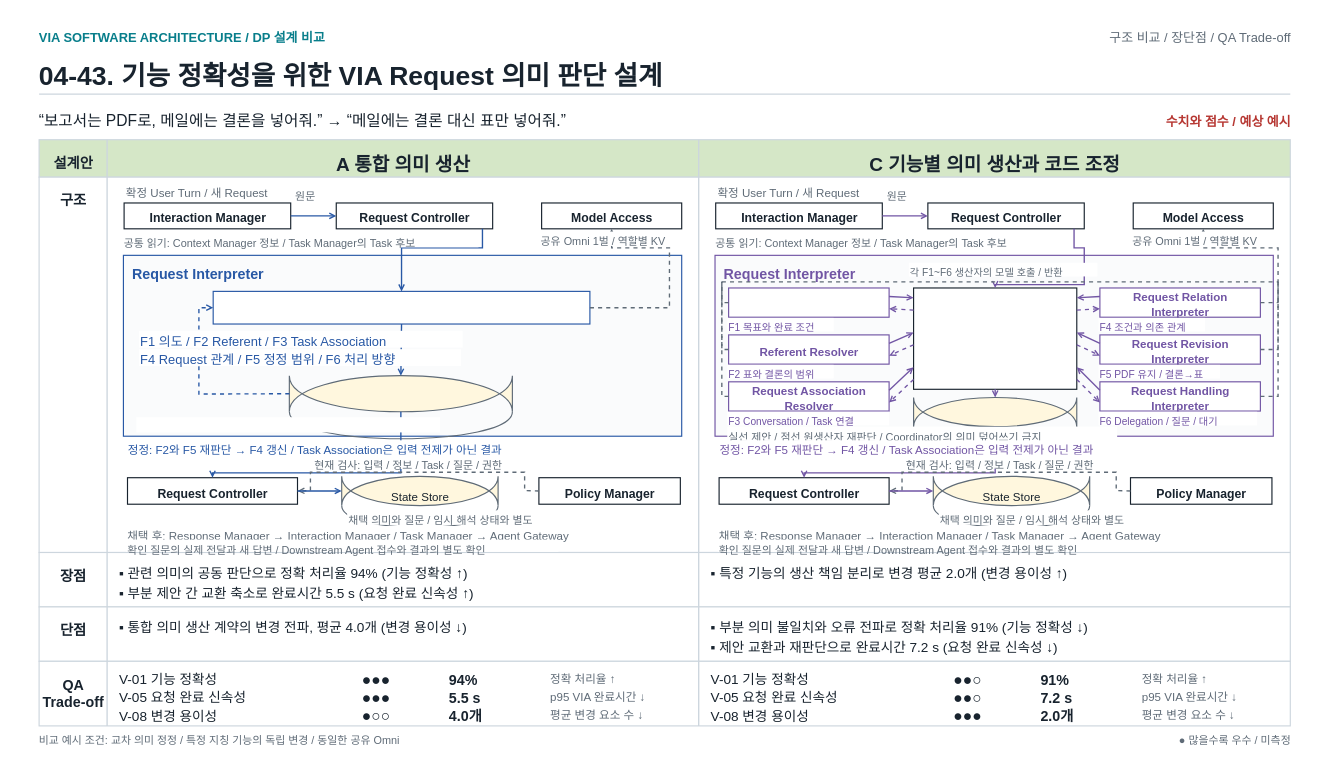
The diagram is 1329 pixels wide and 760 high, and some of its shapes have lost their labels. Each missing label, with the centre of its shape:
Integrated Semantic Interpreter: the point at 401,307
Interpretation Attempt State: the point at 400,393
Interpretation Coordinator: the point at 995,338
Partial Interpretation Ledger: the point at 995,412
Request Intent Interpreter: the point at 808,302
이전 조건 유지와 부분 갱신 / 검색과 전문 보조 허용: the point at 288,424
